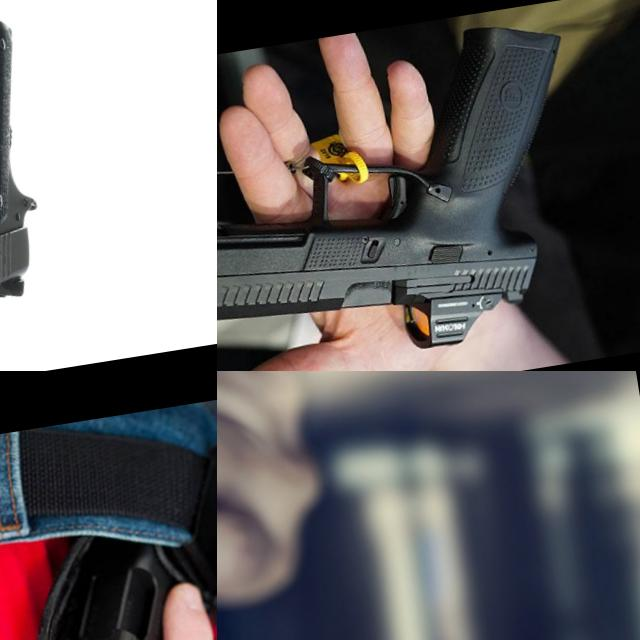handgun: (217, 8, 610, 371), (0, 0, 186, 371), (0, 510, 217, 640), (217, 448, 309, 640)
